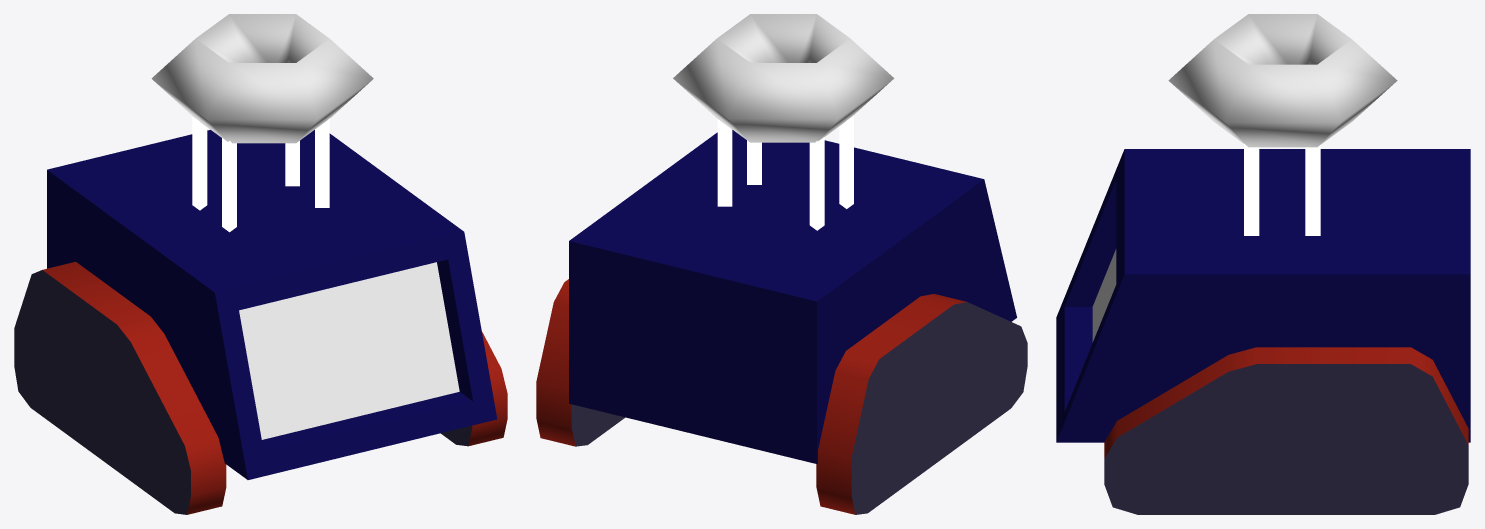
The model's file is truck.fbx.
3 views of the same model, side by side, from view 1: azimuth 30°, elevation 25°; view 2: azimuth 150°, elevation 25°; view 3: azimuth 270°, elevation 25° (orthographic). The views are drawn at different scales.
Visible parts, largest first — view 1: Box001, Box003, Torus001, Box002, Cylinder001, Cylinder002, Cylinder004, Cylinder003; view 2: Box001, Box003, Torus001, Box002, Cylinder001, Cylinder003, Cylinder002, Cylinder004; view 3: Box001, Box002, Torus001, Cylinder004, Cylinder003.
Part boxes in pixels (x1=…): Box001: x1=47, y1=130, x2=497, y2=479; Box003: x1=14, y1=261, x2=226, y2=514; Torus001: x1=151, y1=14, x2=373, y2=143; Box002: x1=441, y1=332, x2=507, y2=446; Cylinder001: x1=192, y1=116, x2=207, y2=210; Cylinder002: x1=222, y1=138, x2=236, y2=232; Cylinder004: x1=315, y1=118, x2=329, y2=207; Cylinder003: x1=285, y1=141, x2=299, y2=186; Box001: x1=569, y1=130, x2=1016, y2=463; Box003: x1=816, y1=294, x2=1027, y2=514; Torus001: x1=673, y1=14, x2=894, y2=142; Box002: x1=536, y1=279, x2=625, y2=446; Cylinder001: x1=809, y1=137, x2=824, y2=230; Cylinder003: x1=717, y1=119, x2=732, y2=206; Cylinder002: x1=839, y1=115, x2=853, y2=208; Cylinder004: x1=747, y1=140, x2=761, y2=184; Box001: x1=1056, y1=149, x2=1470, y2=442; Box002: x1=1104, y1=347, x2=1468, y2=514; Torus001: x1=1168, y1=14, x2=1397, y2=147; Cylinder004: x1=1244, y1=143, x2=1259, y2=235; Cylinder003: x1=1305, y1=145, x2=1320, y2=235.
Size of the model in its own units: 15.75 by 18.3 by 17.33.
